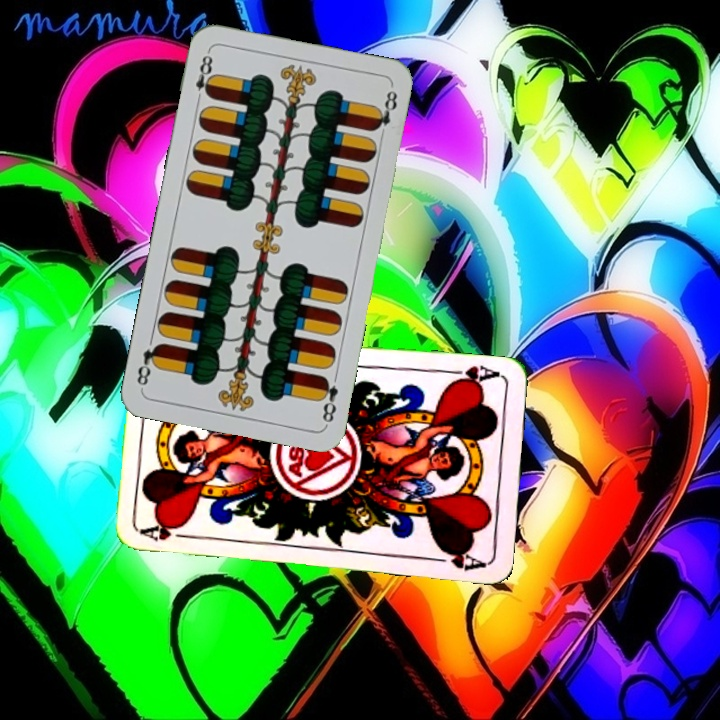E8: (191, 48, 217, 106), (315, 372, 341, 427)
HA: (443, 361, 503, 389), (139, 519, 198, 544)
